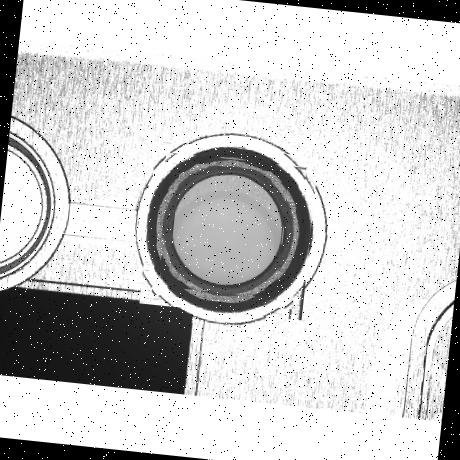Hole: (139, 140, 319, 320)
Hole2: (151, 150, 307, 310)
Hole3: (159, 160, 299, 300)
Hole4: (168, 172, 288, 290)
